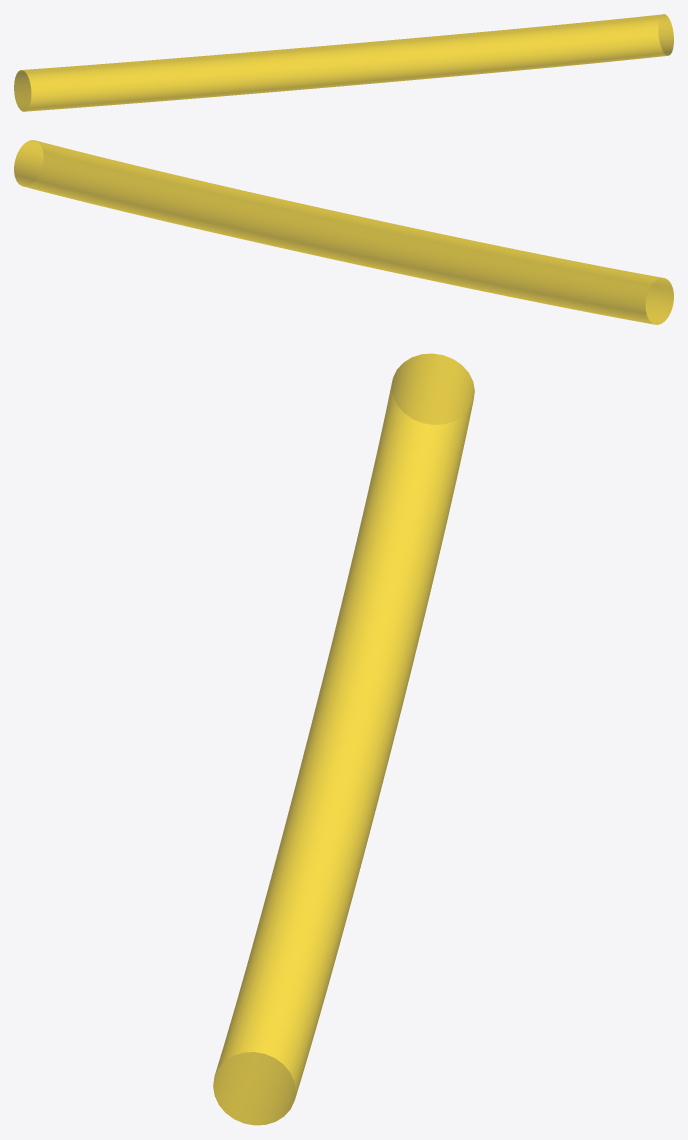
The model's file is Event_27938768_track_73.fbx.
3 views of the same model, one above another, from view 1: azimuth 30°, elevation 25°; view 2: azimuth 150°, elevation 25°; view 3: azimuth 270°, elevation 25° (orthographic). The views are drawn at different scales.
Parts seen in each view (by area): view 1: Model; view 2: Model; view 3: Model.
Part boxes in pixels (x1,y1,x2,y2): Model: (14, 14, 673, 111); Model: (14, 140, 673, 324); Model: (213, 353, 474, 1125).
Bounding box in the file's own units: 0.6662 × 0.1004 × 0.1249.
